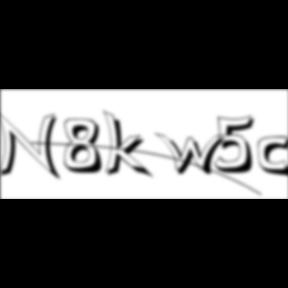5: (214, 114, 260, 176)
8: (64, 117, 110, 176)
N: (0, 109, 66, 183)
k: (104, 108, 156, 181)
w: (155, 132, 233, 178)
